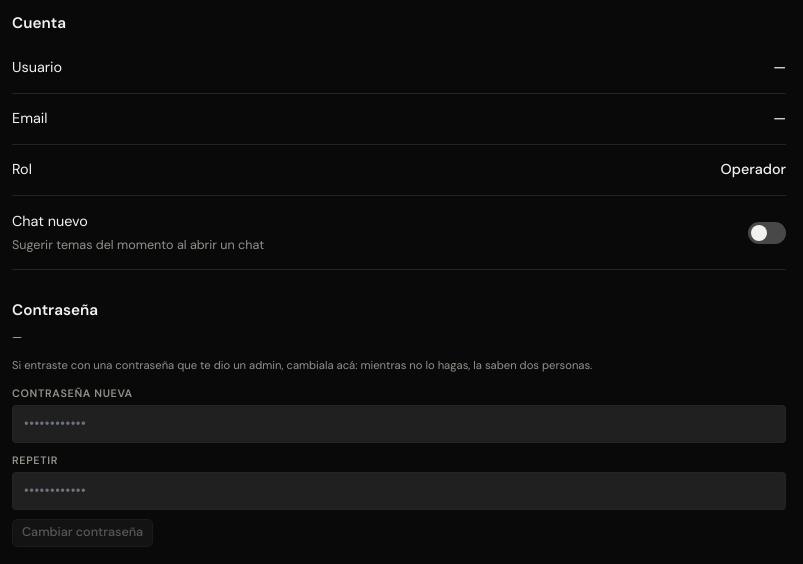
Scenario: si el guardado falla vuelve atrás y lo dice
The width and height of the screenshot is (803, 564).
Click the switch named "Sugerir temas del momento al abrir un chat" at [767, 233], box [748, 222, 786, 244]
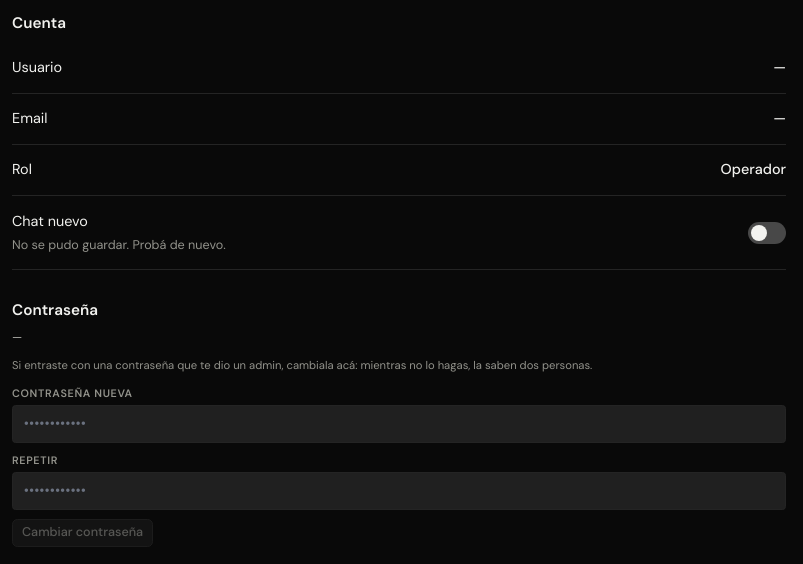
Check: the message shows "No se pudo guardar", box [12, 237, 226, 253]
